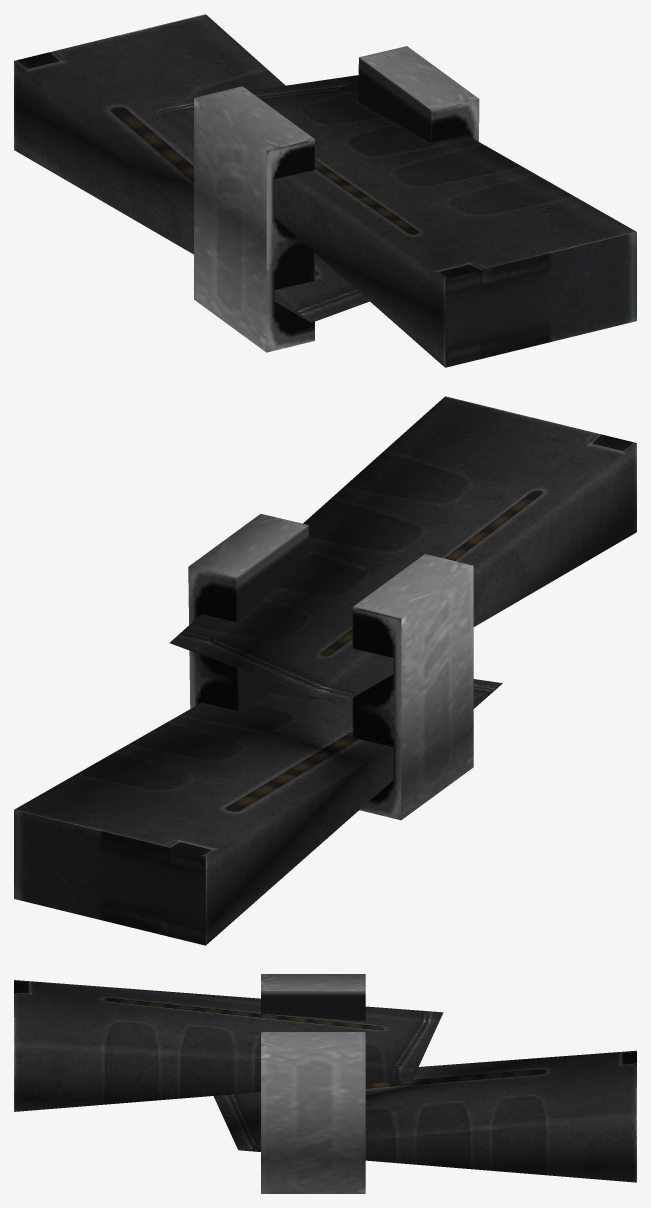
The model's file is t6_attach_fastmag_peacekeeper_world_LOD2.obj.
The picture shows the model from 3 angles, top to bottom: view 1: azimuth 30°, elevation 25°; view 2: azimuth 150°, elevation 25°; view 3: azimuth 270°, elevation 25°; orthographic projection. The views are drawn at different scales.
Visible parts, largest first — view 1: mtl_t6_wpn_smg_peacekeeper_camo4, mtl_t6_wpn_smg_peacekeeper_camo3; view 2: mtl_t6_wpn_smg_peacekeeper_camo4, mtl_t6_wpn_smg_peacekeeper_camo3; view 3: mtl_t6_wpn_smg_peacekeeper_camo4, mtl_t6_wpn_smg_peacekeeper_camo3.
Part boxes in pixels (x1,y1,x2,y2): mtl_t6_wpn_smg_peacekeeper_camo4: (14,14,636,367); mtl_t6_wpn_smg_peacekeeper_camo3: (194,46,478,352); mtl_t6_wpn_smg_peacekeeper_camo4: (14,396,636,945); mtl_t6_wpn_smg_peacekeeper_camo3: (188,514,473,819); mtl_t6_wpn_smg_peacekeeper_camo4: (14,980,636,1182); mtl_t6_wpn_smg_peacekeeper_camo3: (261,974,365,1193).
Size of the model in its own units: 6.1 by 5.54 by 21.4.
